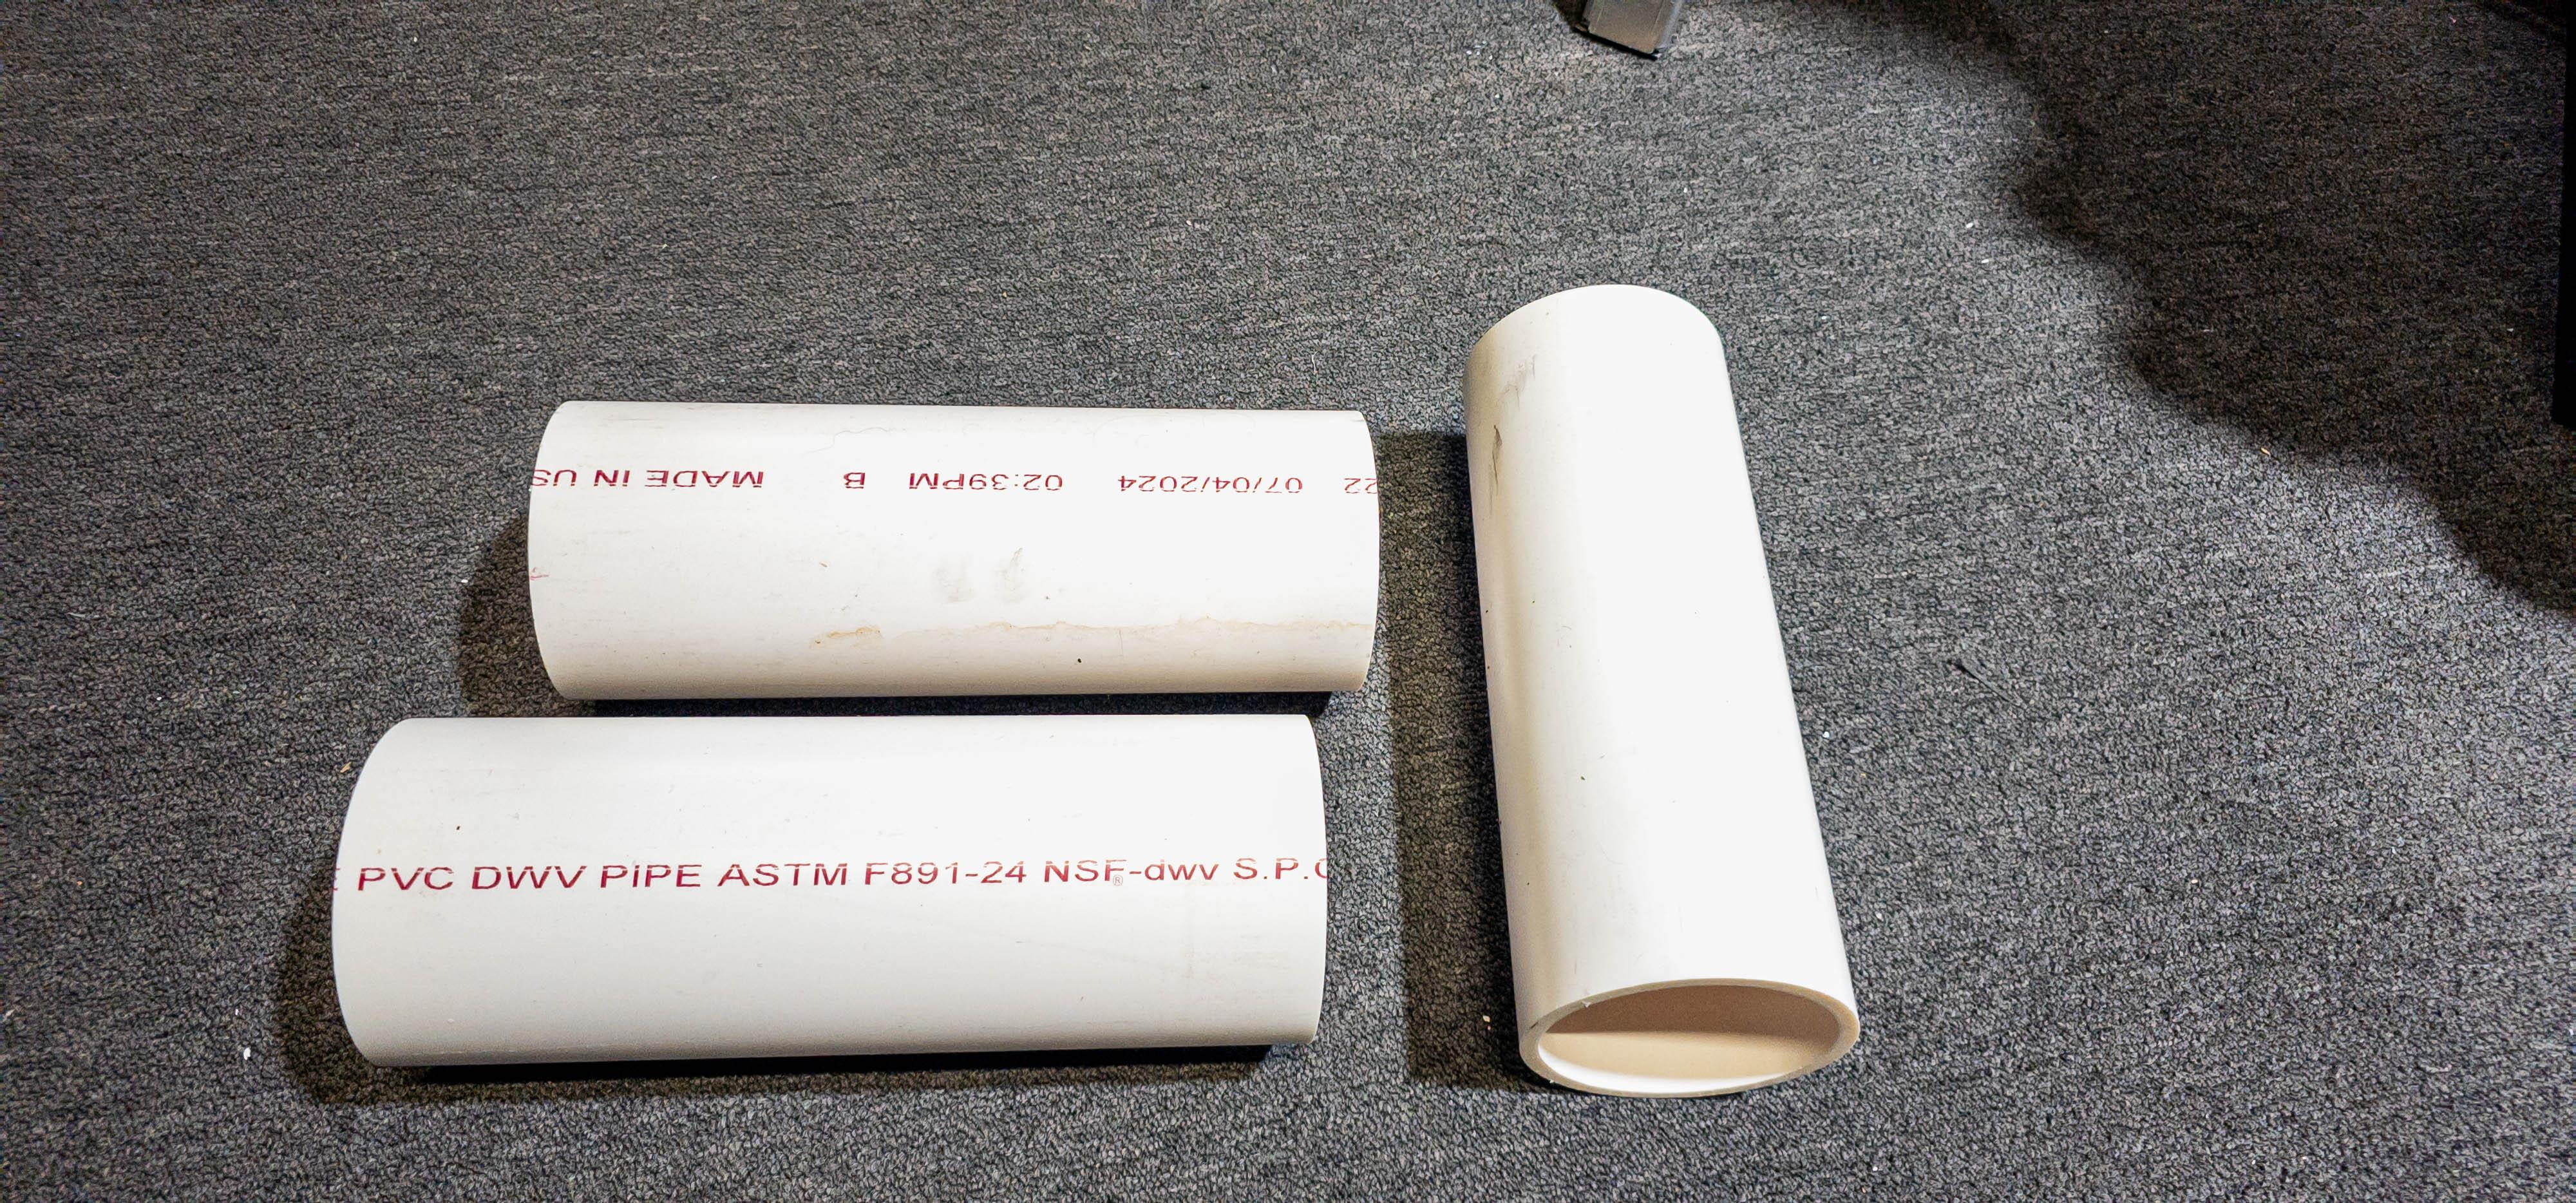CORAL: (332, 715, 1332, 1068), (1465, 283, 1861, 1104), (531, 403, 1382, 698)
